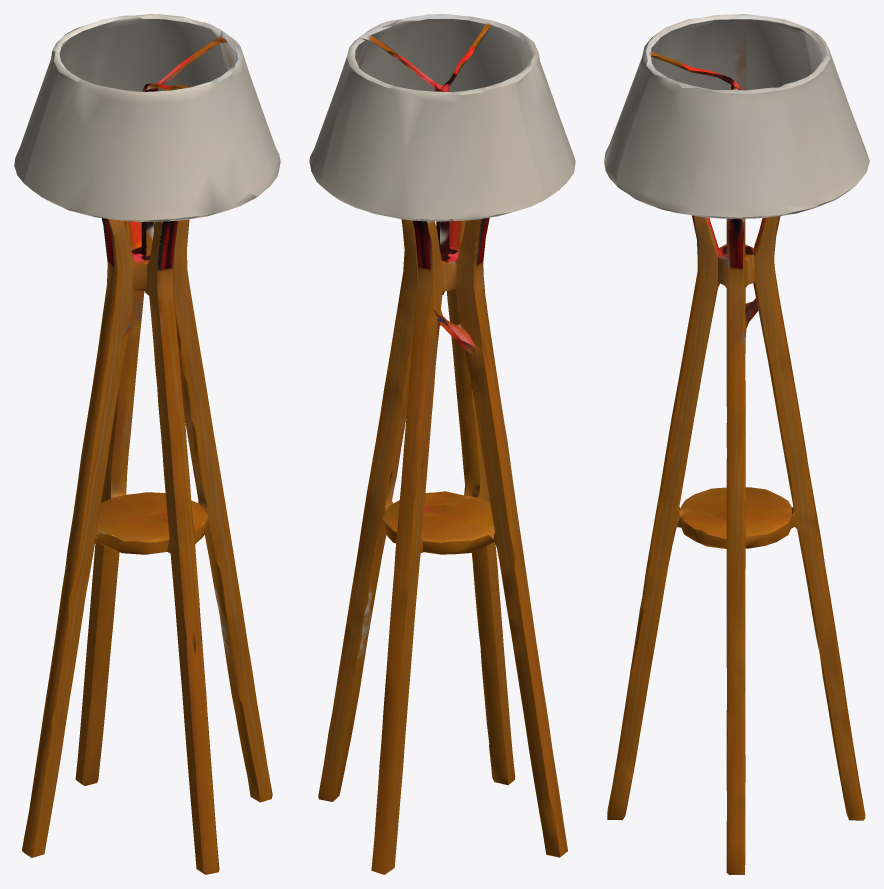
The model's file is Lampe2_3D_textured.glb.
3 views of the same model, side by side, from view 1: azimuth 30°, elevation 25°; view 2: azimuth 150°, elevation 25°; view 3: azimuth 270°, elevation 25° (orthographic).
Parts seen in each view (by area): view 1: temp_mesh.ply; view 2: temp_mesh.ply; view 3: temp_mesh.ply.
Boxes of the visible parts, bbox=[...] form: temp_mesh.ply: bbox=[14, 14, 280, 874]; temp_mesh.ply: bbox=[309, 14, 575, 874]; temp_mesh.ply: bbox=[604, 14, 869, 874].
Size of the model in its own units: 0.6492 by 1.97 by 0.6212.
1 material, 1 textured.
